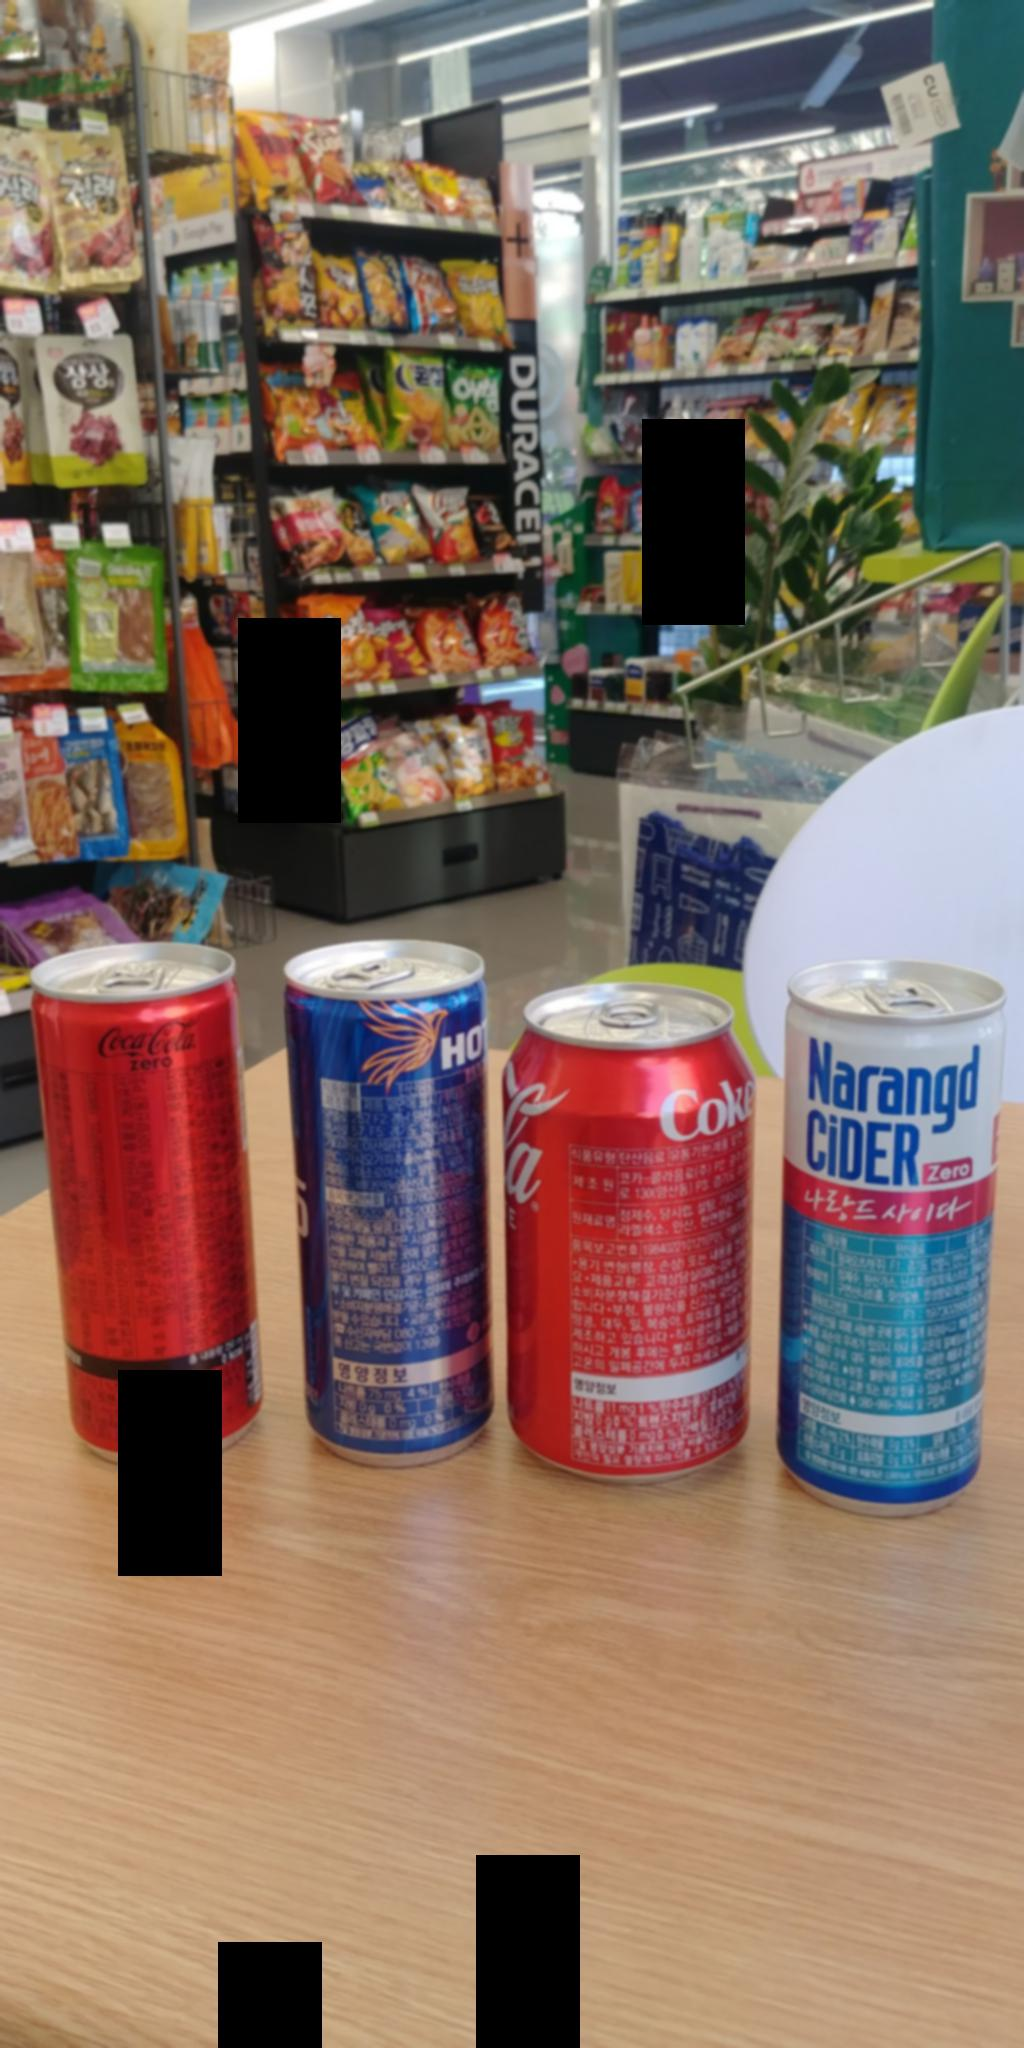cocacola: (499, 969, 759, 1512)
hotsix_org: (247, 935, 499, 1489)
narangdcider: (760, 906, 1024, 1563)
